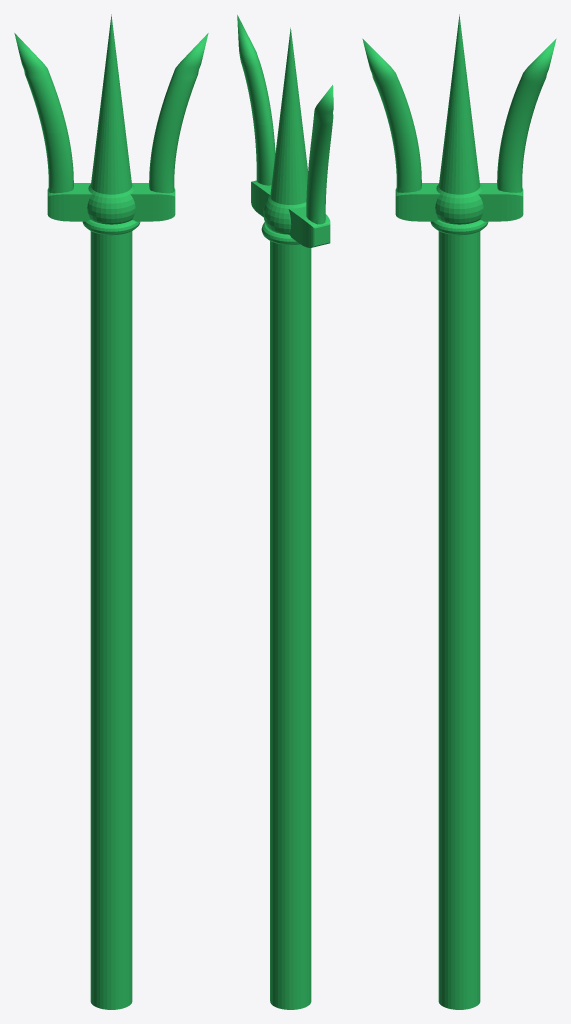
Rendered from trident.obj.
3 renders of one model, left to right at view 1: azimuth 90°, elevation 25°; view 2: azimuth 210°, elevation 25°; view 3: azimuth 270°, elevation 25°, orthographic.
Visible parts, largest first — view 1: ondent; view 2: ondent; view 3: ondent.
Part boxes in pixels (x1,y1,x2,y2): ondent: [14, 14, 208, 1009]; ondent: [237, 15, 333, 1009]; ondent: [362, 14, 556, 1009].
Bounding box in the file's own units: 0.1408 × 2.6 × 0.4639.
